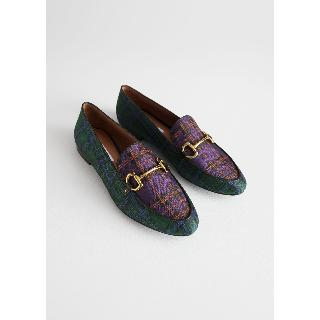loafers: (65, 78, 251, 244)
